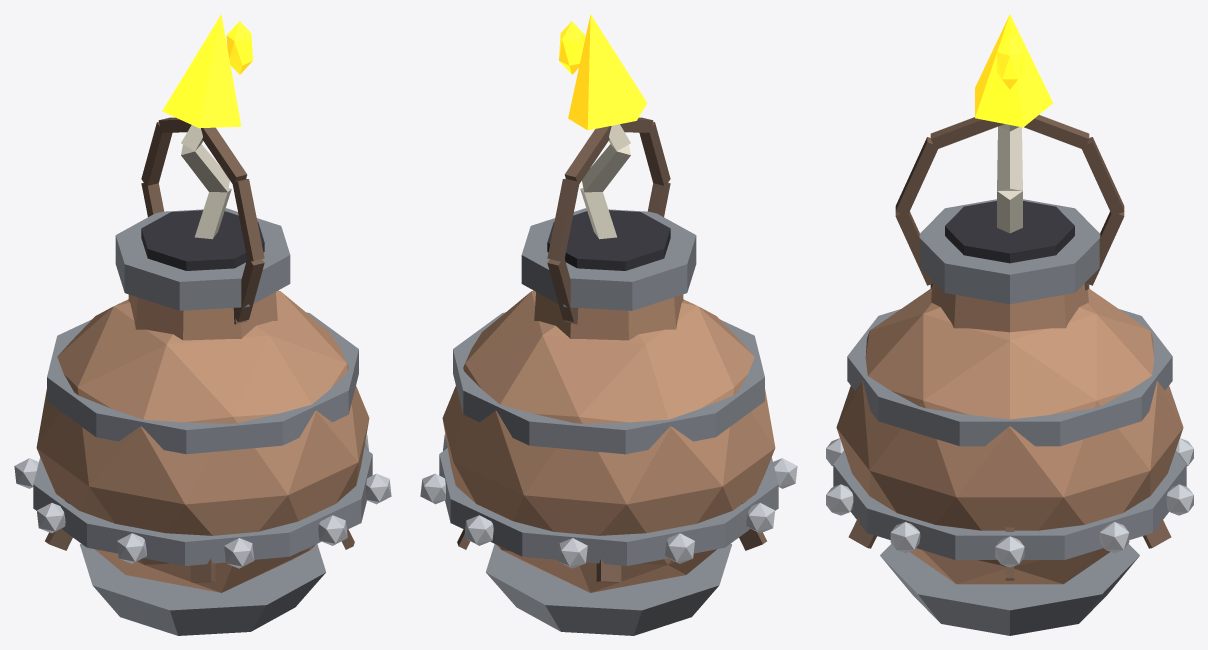
Rendered from Item_FireBomb.glb.
3 views of the same model, side by side, from view 1: azimuth 30°, elevation 25°; view 2: azimuth 150°, elevation 25°; view 3: azimuth 270°, elevation 25° (orthographic).
Parts seen in each view (by area): view 1: FireBomb; view 2: FireBomb; view 3: FireBomb.
Boxes of the visible parts, x1,y1,x2,y2 form: FireBomb: (14,14,391,635); FireBomb: (420,14,797,635); FireBomb: (826,14,1193,635).
Size of the model in its own units: 0.3566 by 0.6 by 0.3392.
